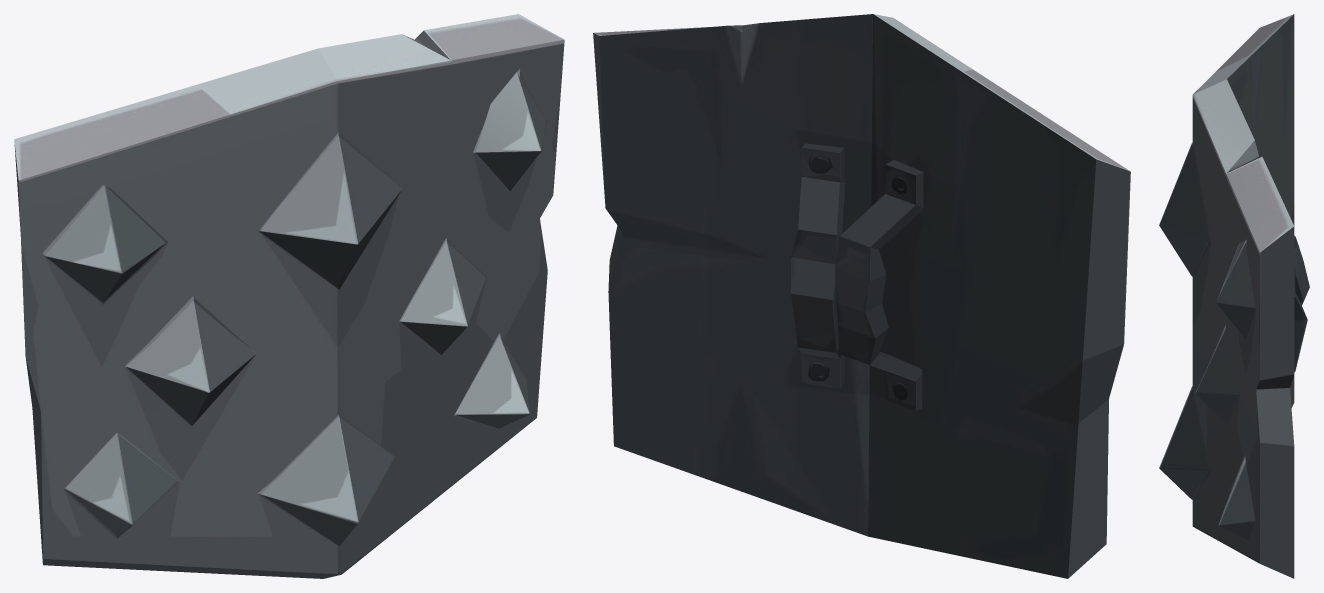
Rendered from Hard_05.FBX.
The picture shows the model from 3 angles, left to right: view 1: azimuth 30°, elevation 25°; view 2: azimuth 150°, elevation 25°; view 3: azimuth 270°, elevation 25°; orthographic projection. The views are drawn at different scales.
Visible parts, largest first — view 1: Hard_05; view 2: Hard_05; view 3: Hard_05.
Boxes of the visible parts, left/top/right/bottom form: Hard_05: left=14, top=14, right=564, bottom=578; Hard_05: left=593, top=14, right=1130, bottom=578; Hard_05: left=1159, top=14, right=1309, bottom=578.
Bounding box in the file's own units: 57.32 × 53.34 × 15.77.
